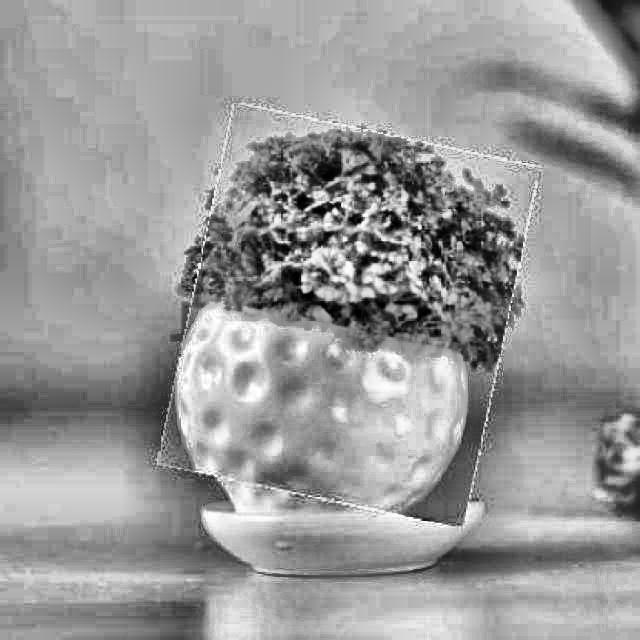plants: (175, 118, 522, 514)
